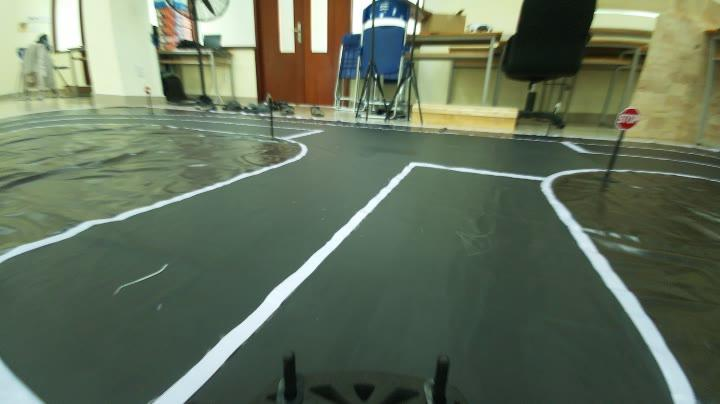stop: (616, 106, 642, 132)
